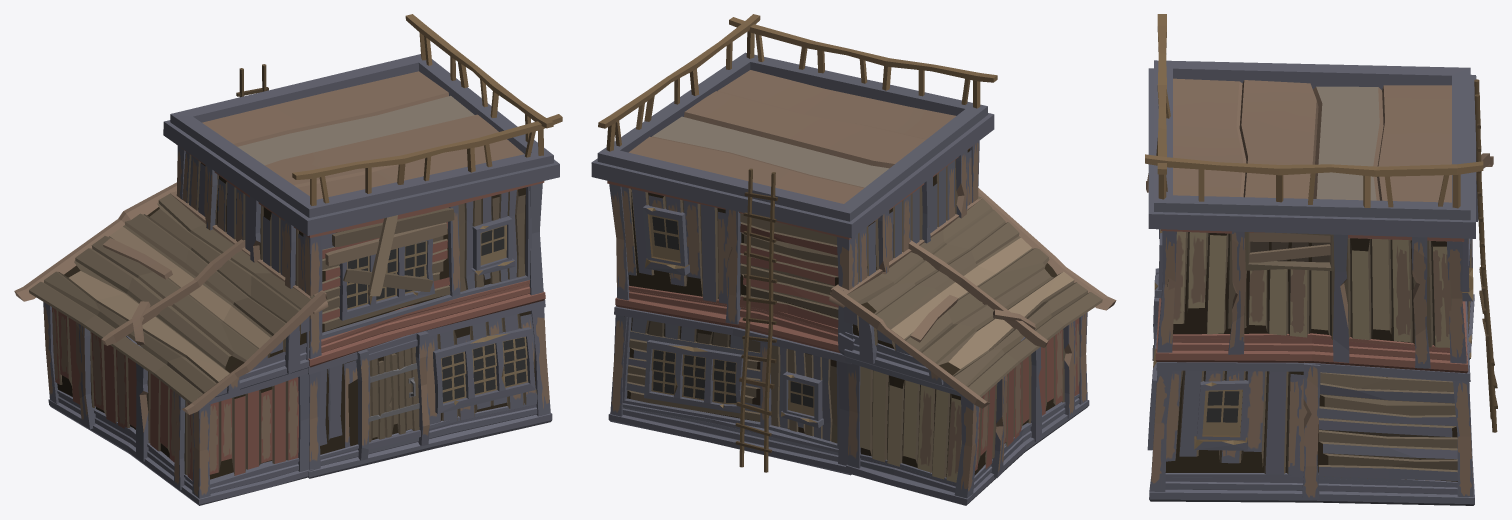
File: SM_Bld_Shanty_Preset_01.fbx
The picture shows the model from 3 angles, left to right: view 1: azimuth 30°, elevation 25°; view 2: azimuth 150°, elevation 25°; view 3: azimuth 270°, elevation 25°; orthographic projection. The views are drawn at different scales.
Visible parts, largest first — view 1: SM_Bld_Shanty_Preset_01; view 2: SM_Bld_Shanty_Preset_01; view 3: SM_Bld_Shanty_Preset_01.
Part boxes in pixels (x1=…): SM_Bld_Shanty_Preset_01: x1=14, y1=14, x2=562, y2=505; SM_Bld_Shanty_Preset_01: x1=591, y1=14, x2=1116, y2=505; SM_Bld_Shanty_Preset_01: x1=1145, y1=14, x2=1497, y2=505.
Bounding box in the file's own units: 8.76 × 6.48 × 5.81.
